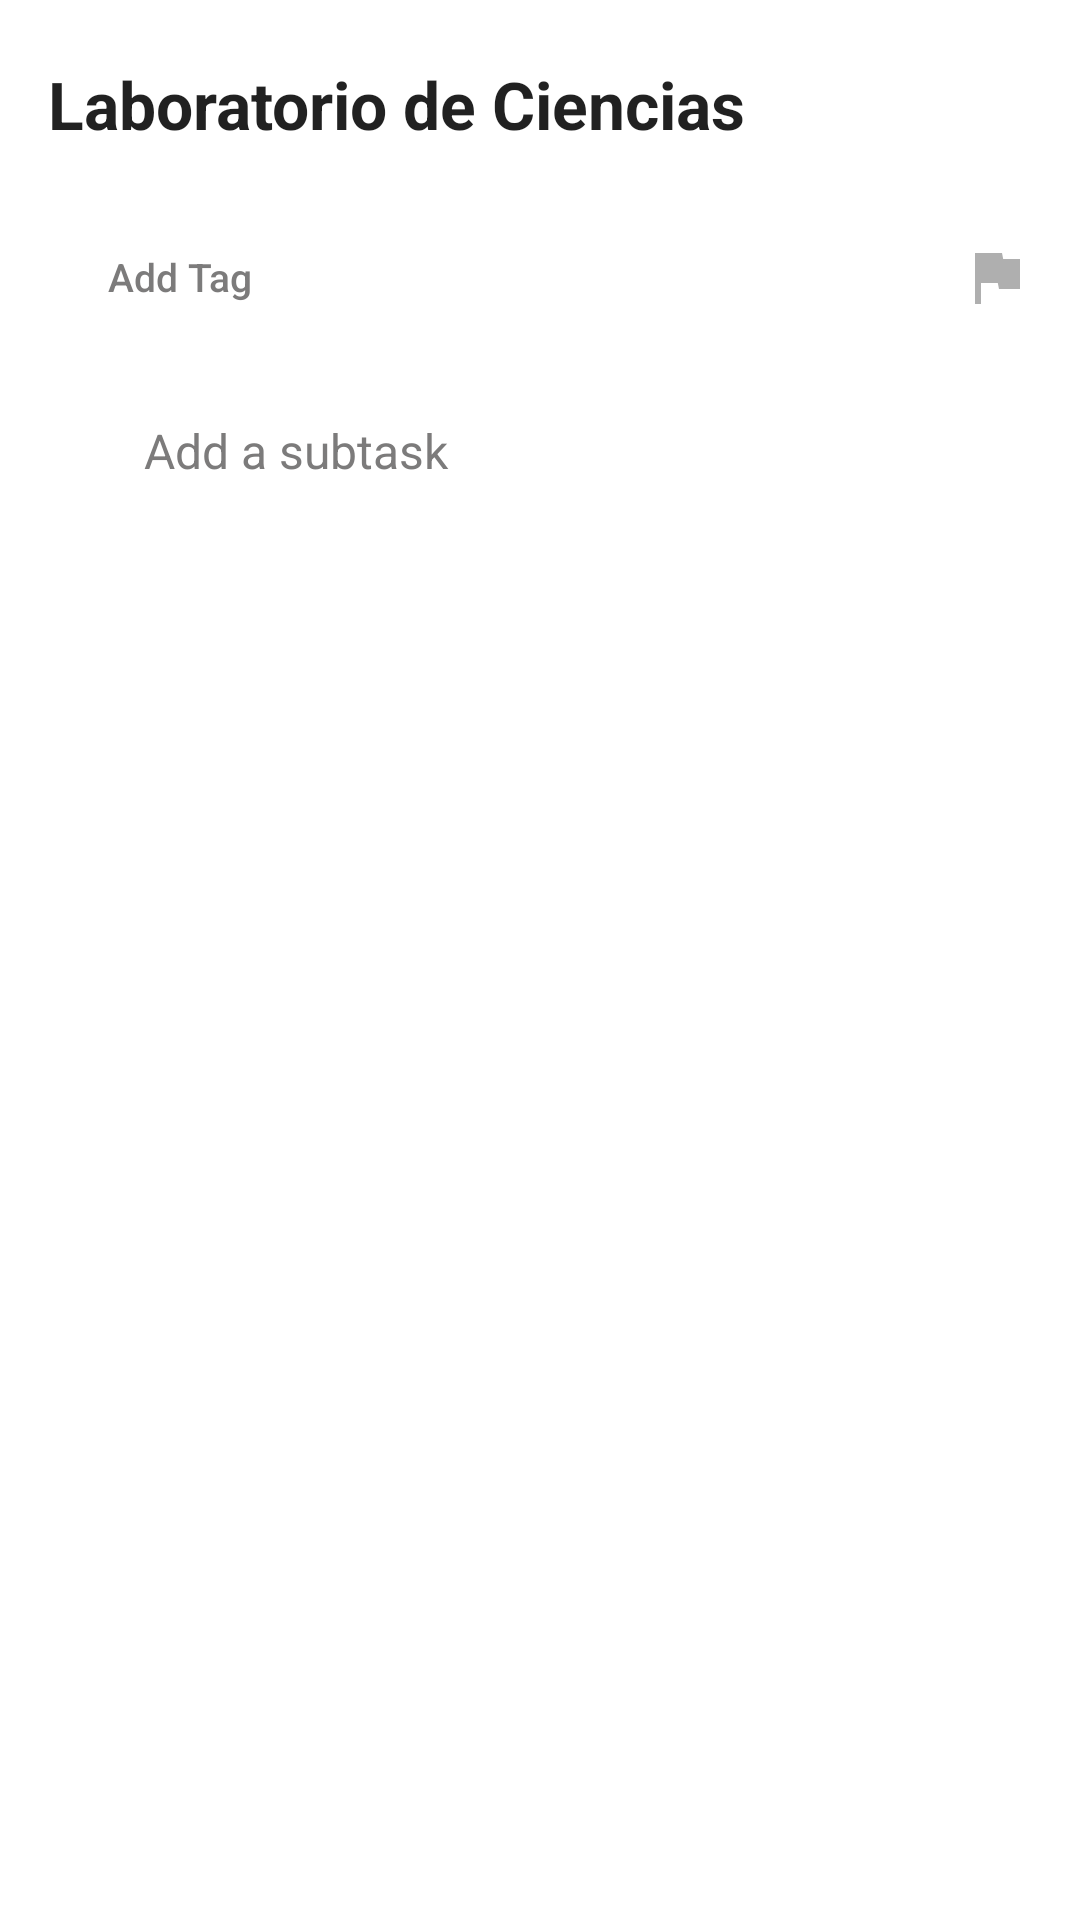

Icon bounding boxes for this 1080w x 1920h phone screenshot, format {"x1": x1, "y1": y1, "x2": x2, "y2": y2}:
flag: {"x1": 975, "y1": 253, "x2": 1020, "y2": 304}
